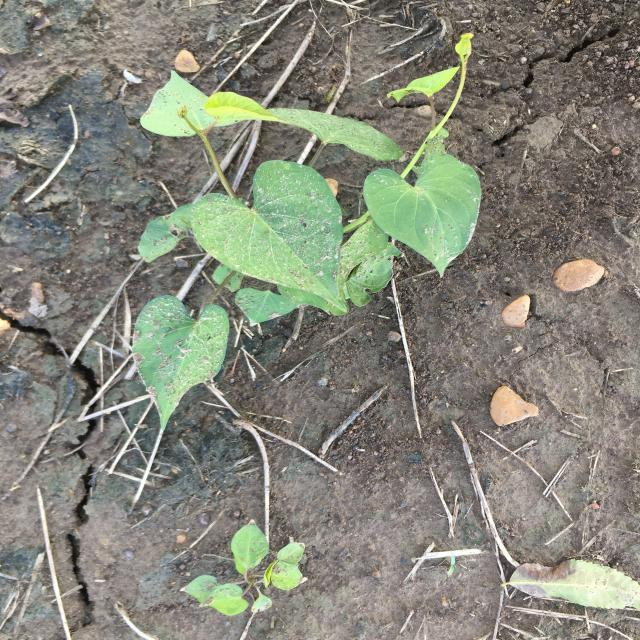MorningGlory: (132, 32, 482, 430)
